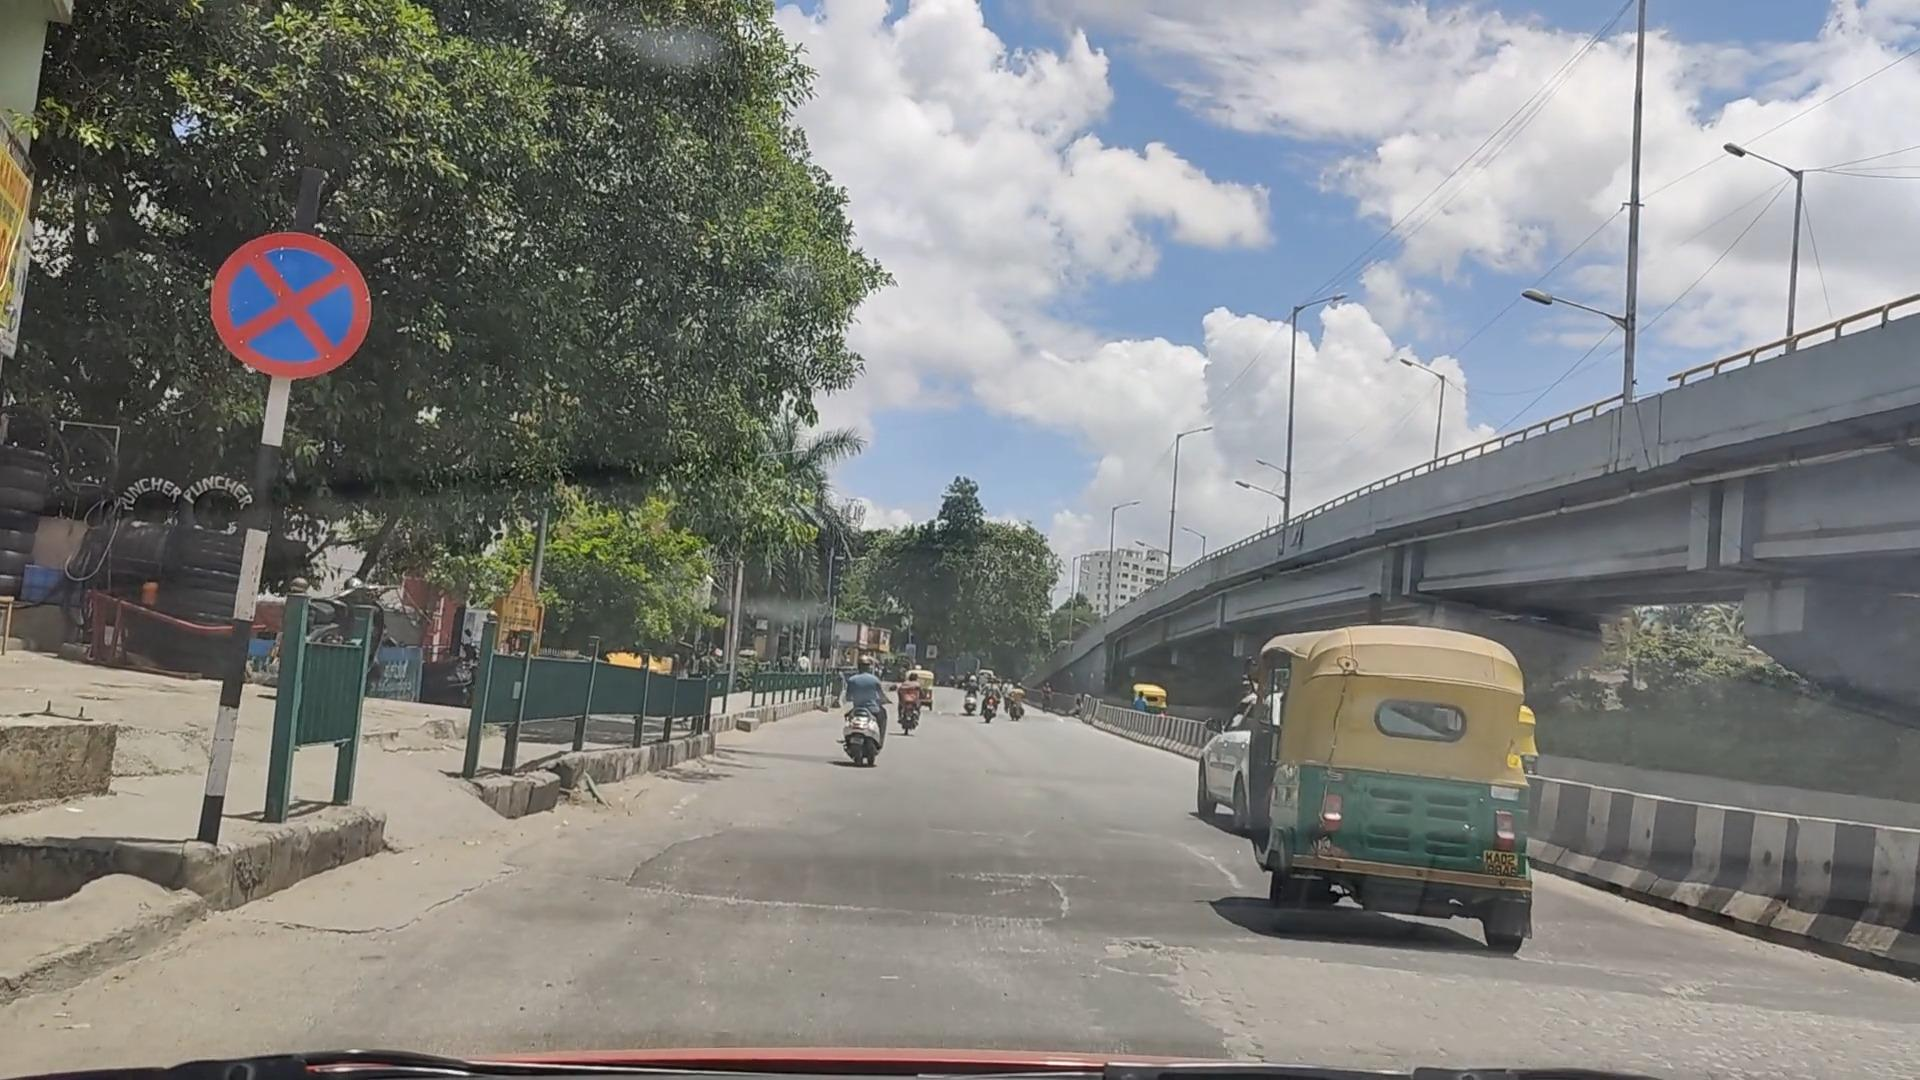LMV: (1266, 600, 1543, 942)
RoadDamages: (1092, 920, 1269, 988), (949, 857, 1109, 918), (1159, 841, 1240, 890)
